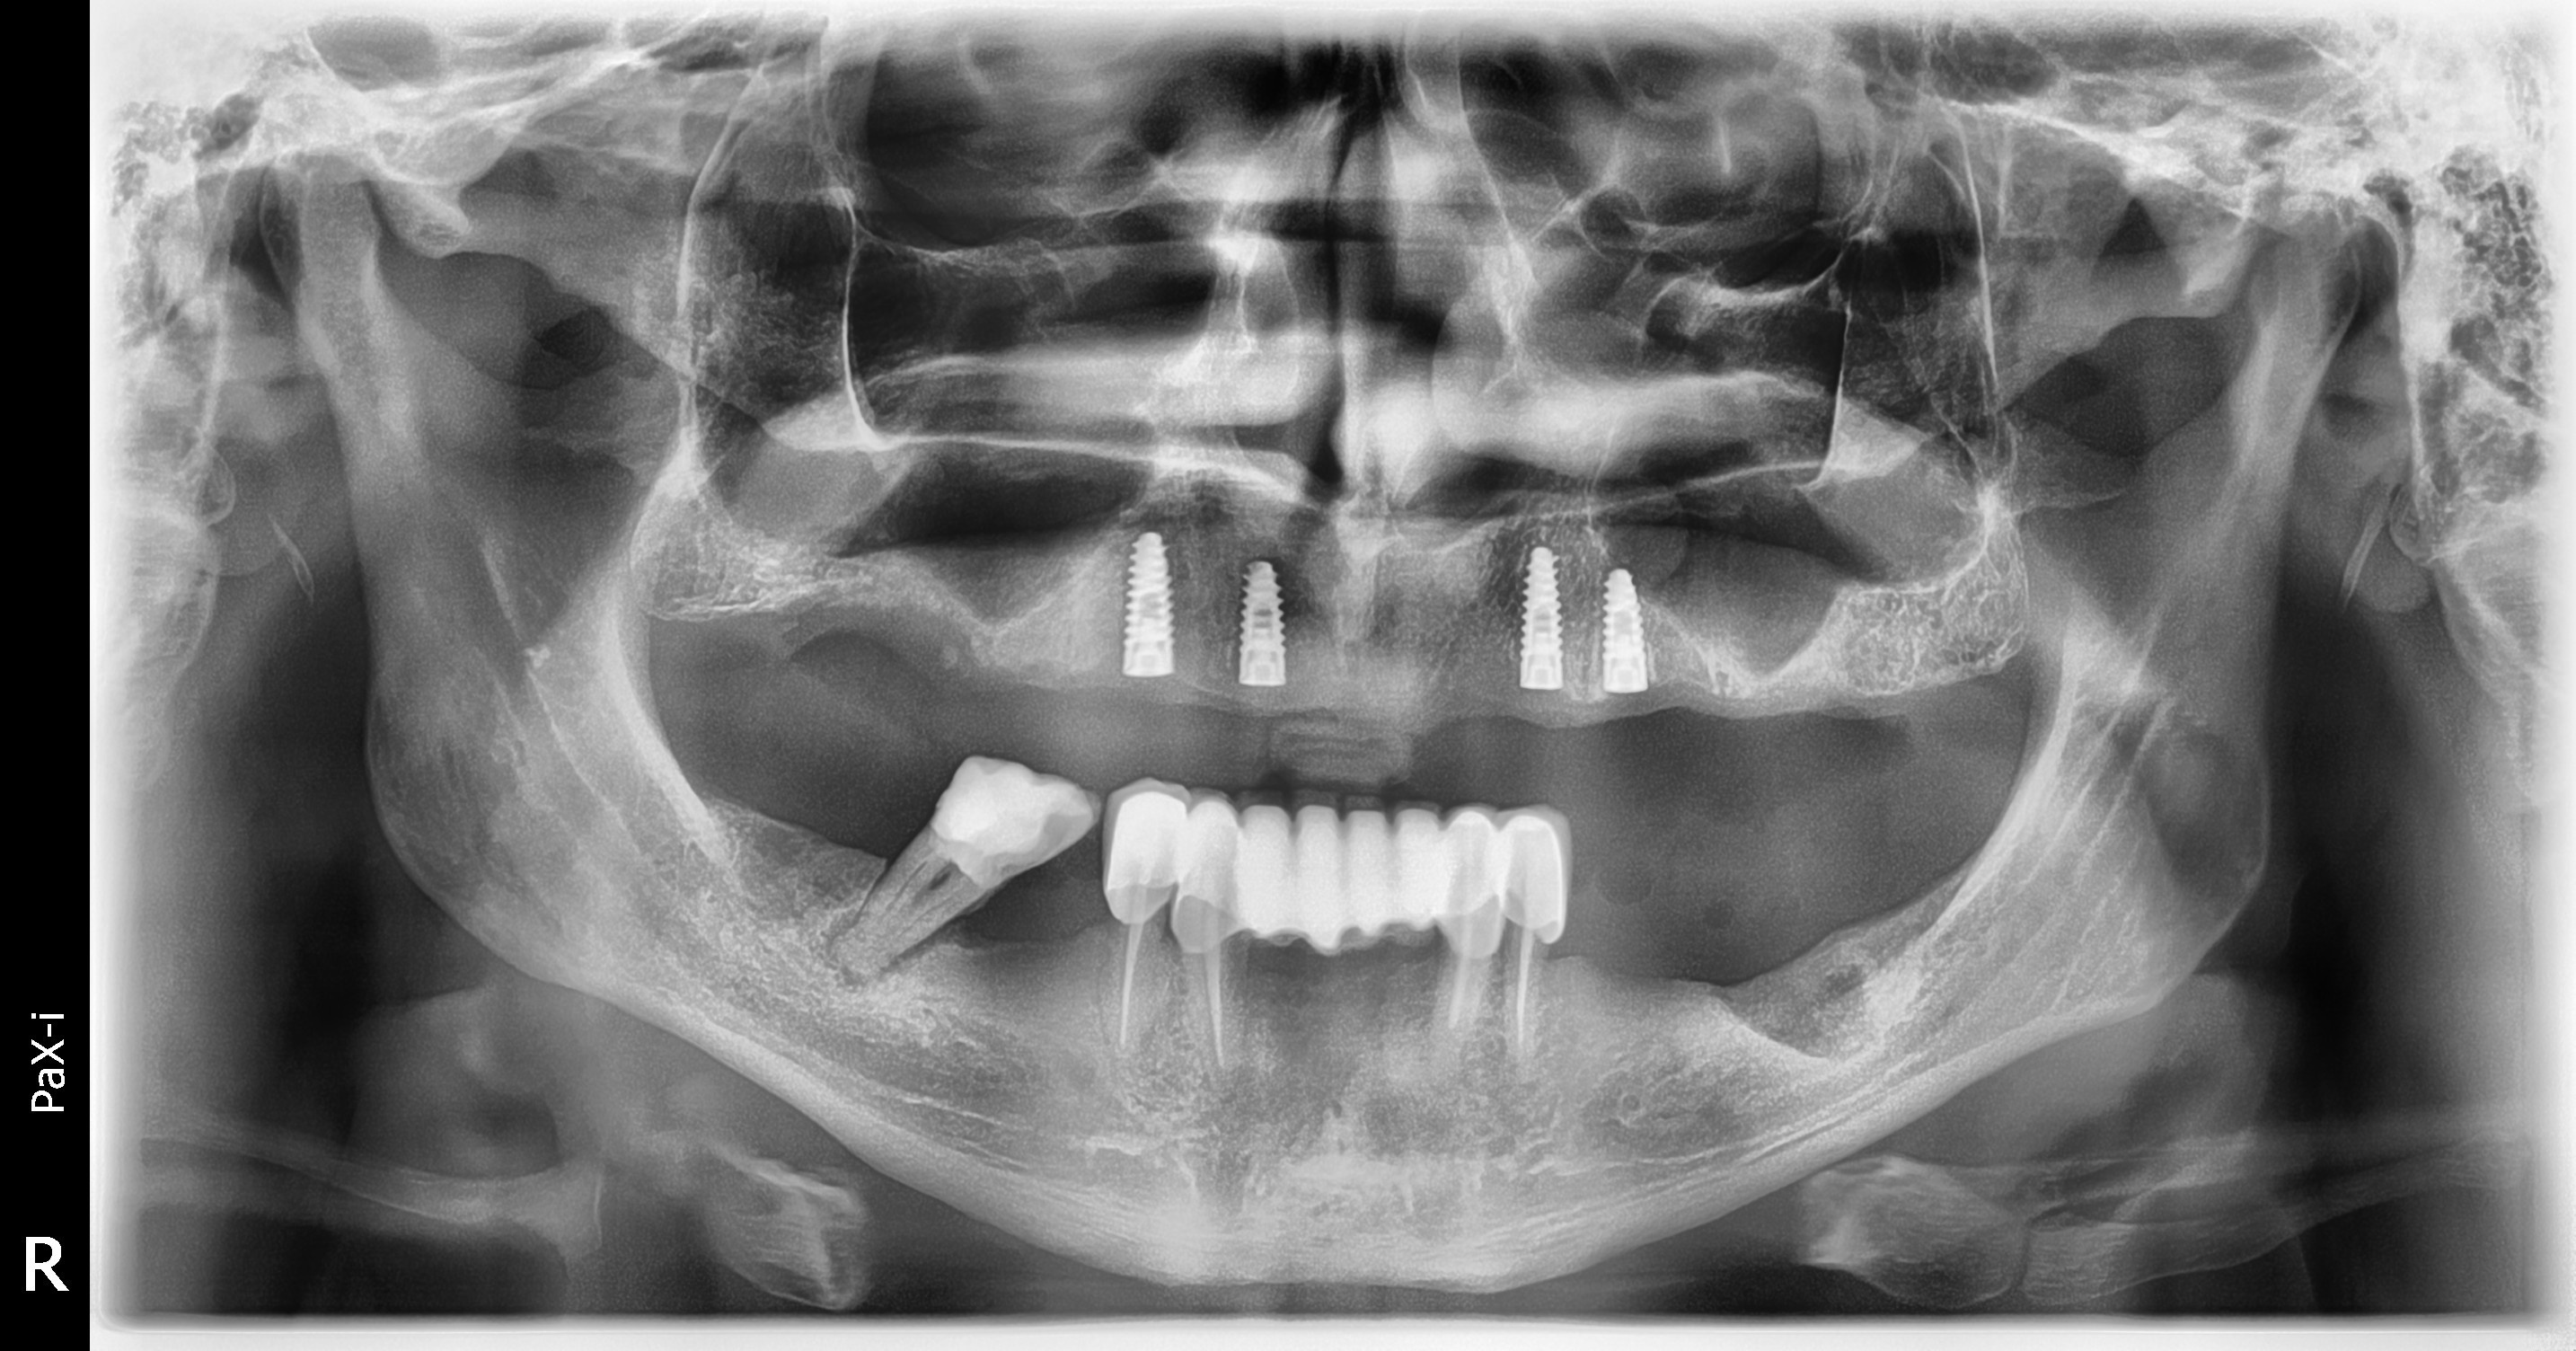API: (821, 908, 900, 988)
BON: (901, 898, 1051, 952)
END: (1516, 927, 1532, 1048)
FUR: (927, 867, 952, 894)
PRR: (1102, 780, 1569, 961)
